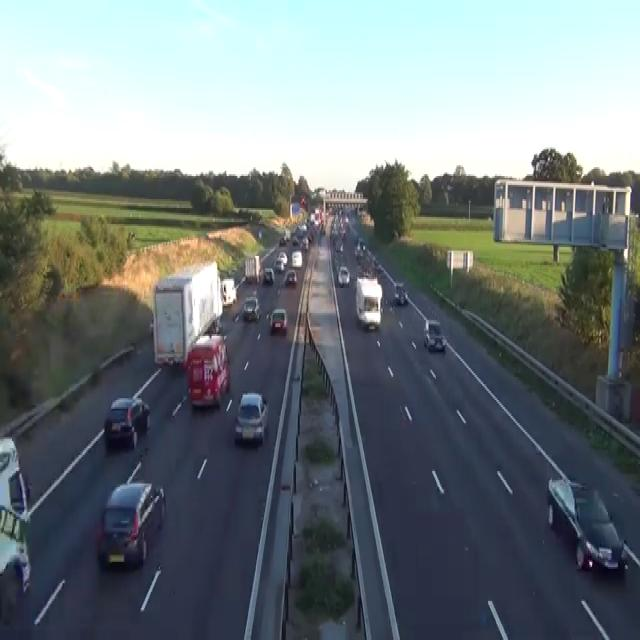Car: (547, 477, 628, 572), (96, 480, 166, 569), (0, 503, 31, 594), (104, 396, 150, 450), (0, 436, 29, 519), (234, 391, 268, 445), (0, 436, 19, 476), (423, 318, 446, 350), (242, 295, 260, 322), (269, 308, 287, 334), (394, 283, 408, 304), (337, 265, 350, 286), (283, 268, 297, 286), (354, 236, 365, 258), (291, 249, 302, 267), (263, 266, 274, 282), (273, 258, 284, 272), (277, 251, 287, 265), (357, 206, 365, 219), (358, 236, 365, 249), (301, 236, 308, 249), (334, 242, 343, 252), (372, 256, 379, 268), (291, 237, 299, 246), (149, 318, 153, 334), (279, 237, 286, 246), (300, 194, 305, 206), (309, 212, 315, 222), (258, 228, 262, 240), (354, 235, 358, 245)
Truck: (151, 260, 223, 368), (186, 333, 230, 407), (355, 275, 383, 329), (244, 254, 263, 283), (221, 277, 236, 306)
